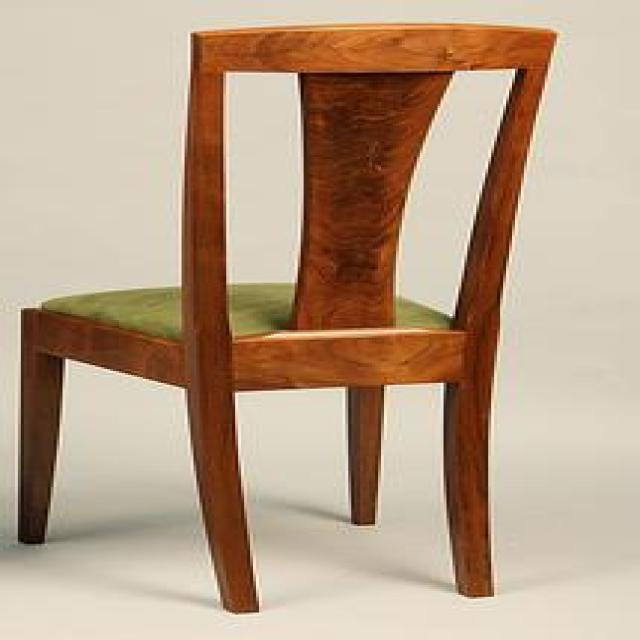chair: (15, 22, 557, 614)
